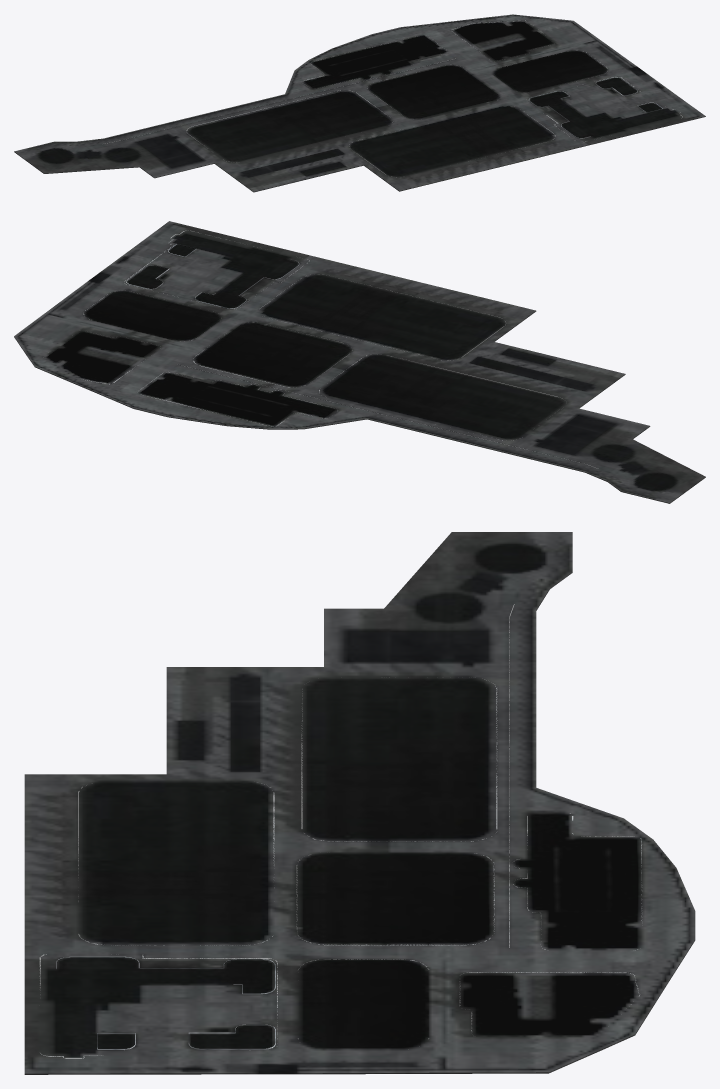
The model's file is dimianYNSCYQ.glb.
The picture shows the model from 3 angles, top to bottom: view 1: azimuth 30°, elevation 25°; view 2: azimuth 150°, elevation 25°; view 3: azimuth 270°, elevation 25°; orthographic projection. The views are drawn at different scales.
Visible parts, largest first — view 1: dimianYNSCYQ; view 2: dimianYNSCYQ; view 3: dimianYNSCYQ.
Part boxes in pixels (<box>): dimianYNSCYQ: <box>14,14,705,192</box>; dimianYNSCYQ: <box>14,221,705,503</box>; dimianYNSCYQ: <box>24,532,695,1074</box>.
Bounding box in the file's own units: 25963 × 38.05 × 13584.
Materials: 1 (1 with a texture image).
